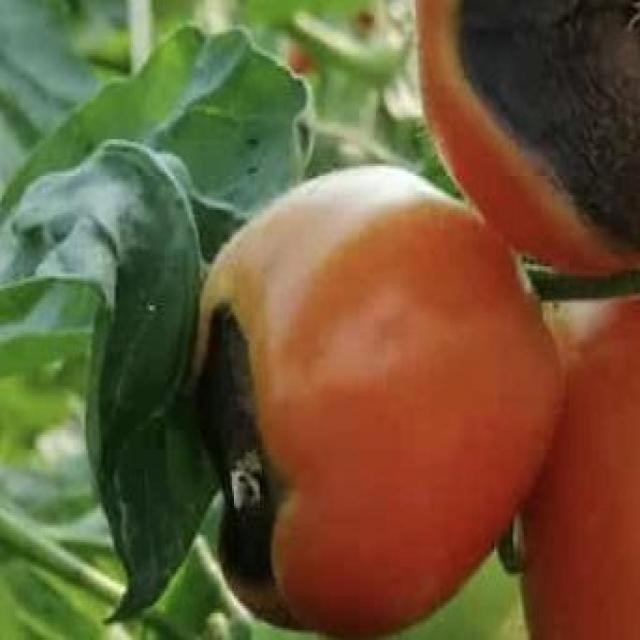Blossom End Rot Fruit: (125, 187, 198, 427)
